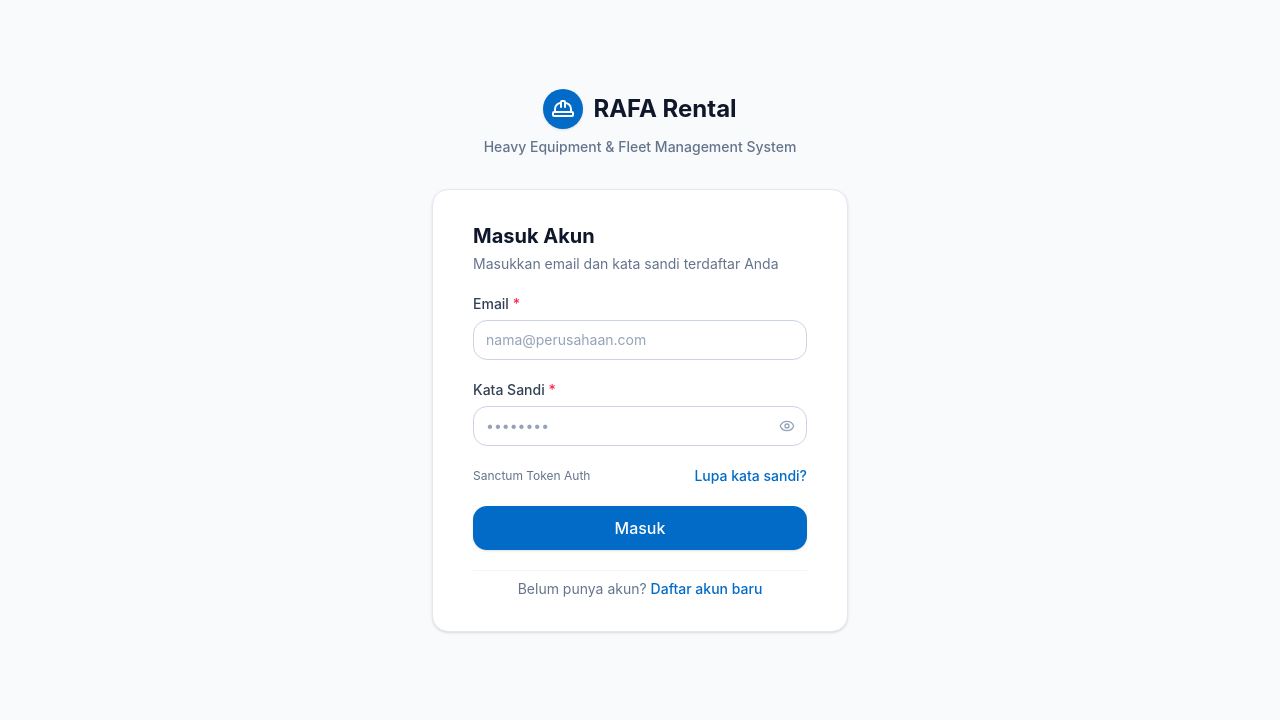
Frontend End-to-End Authentication Journey › completes login, redirects to user portal, and logs out successfully
The width and height of the screenshot is (1280, 720).
Type "rian@perusahaan.com" into the field labelled "Email *" at (640, 340), box top-left (473, 320), bottom-right (807, 360)
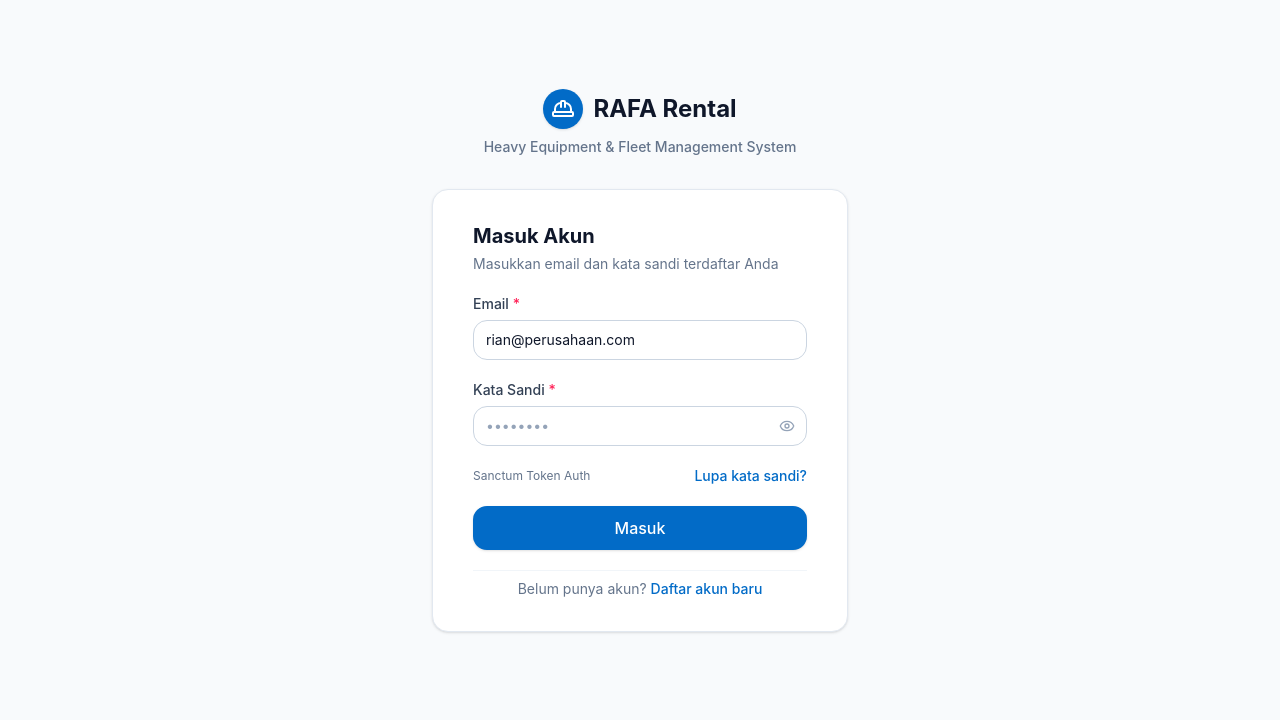
Type "password123" into the password field labelled "Kata Sandi *" at (640, 426), box top-left (473, 406), bottom-right (807, 446)
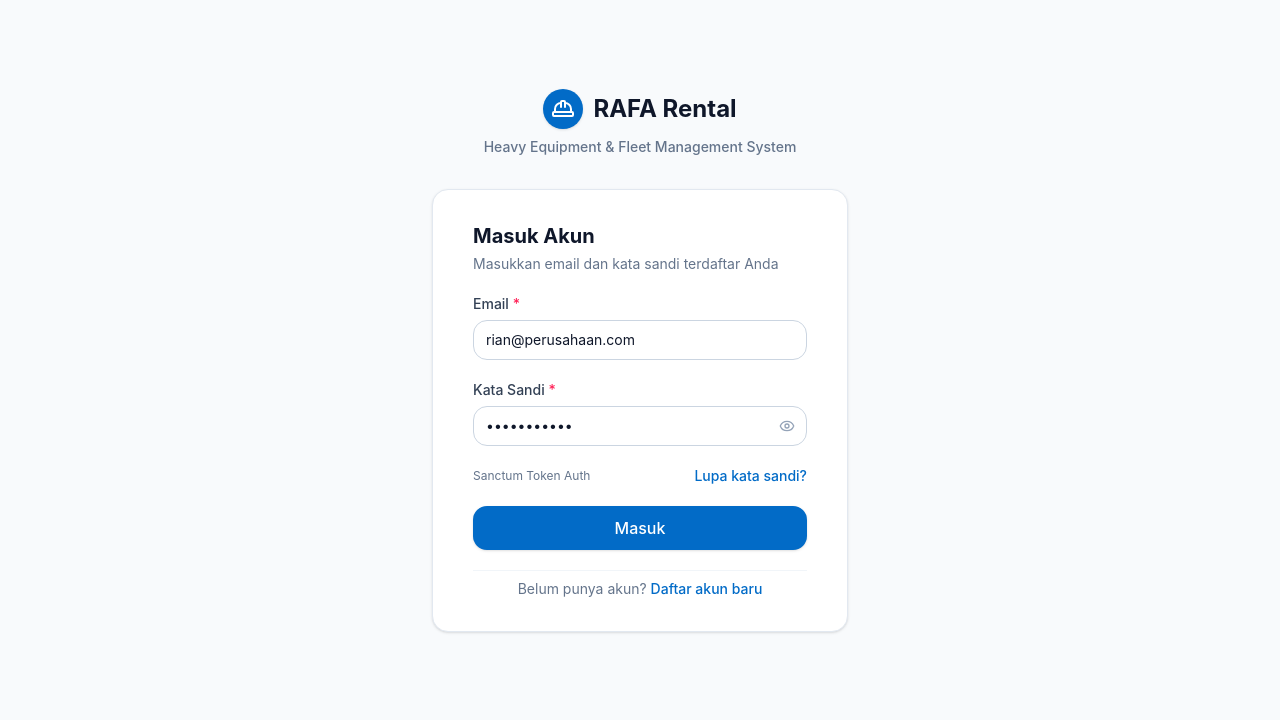
// Submit form
Click the button "Masuk" at (640, 528), box top-left (473, 506), bottom-right (807, 550)
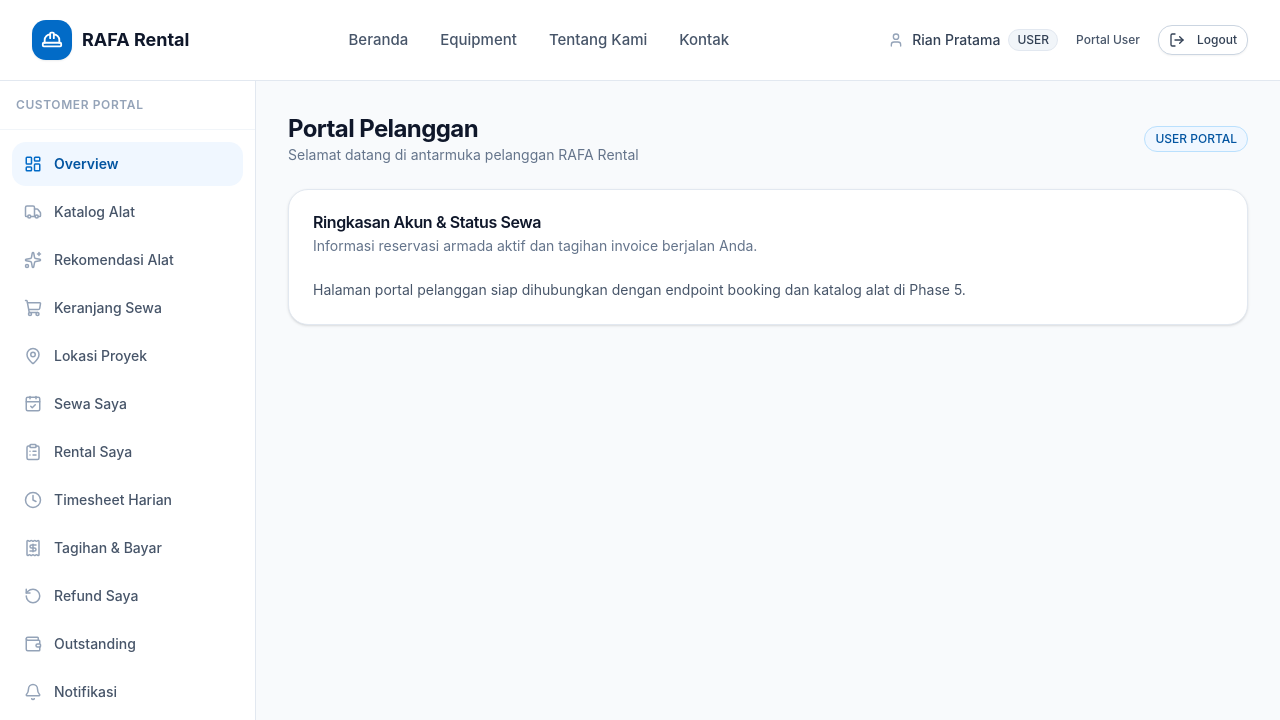
Expected: the heading "Portal Pelanggan" is shown, top-left (288, 114), bottom-right (478, 143)
Expected: the text "Rian Pratama" is shown, top-left (912, 30), bottom-right (1000, 50)
Expected: the text "USER" is shown, top-left (1008, 29), bottom-right (1058, 51)
// User clicks logout button
Click the button "Logout" at (1203, 40), box top-left (1158, 25), bottom-right (1248, 55)
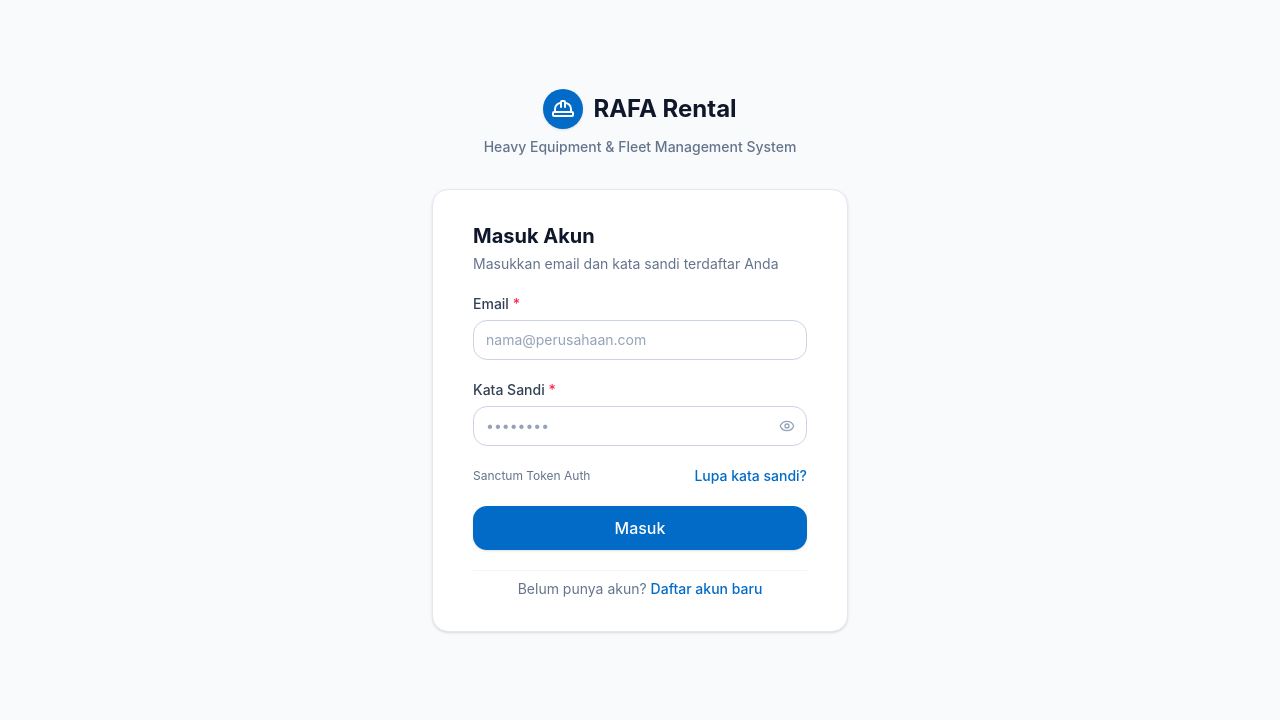
Expected: the heading "Masuk Akun" is shown, top-left (473, 224), bottom-right (595, 248)
